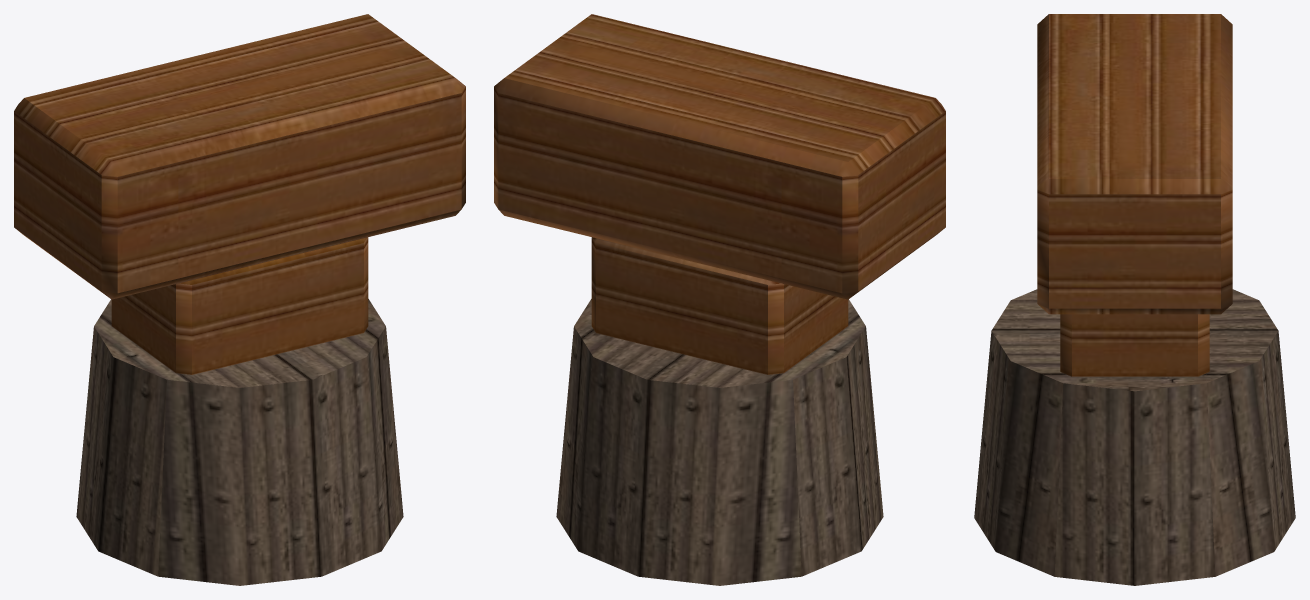
The model's file is prop_anvil.glb.
The picture shows the model from 3 angles, left to right: view 1: azimuth 30°, elevation 25°; view 2: azimuth 150°, elevation 25°; view 3: azimuth 270°, elevation 25°; orthographic projection.
Parts seen in each view (by area): view 1: PROP_Anvil; view 2: PROP_Anvil; view 3: PROP_Anvil.
Boxes of the visible parts, left/top/right/bottom form: PROP_Anvil: left=14, top=14, right=465, bottom=585; PROP_Anvil: left=494, top=14, right=945, bottom=585; PROP_Anvil: left=974, top=14, right=1295, bottom=585.
Bounding box in the file's own units: 0.72 × 0.81 × 0.56.
2 materials, 2 textured.
